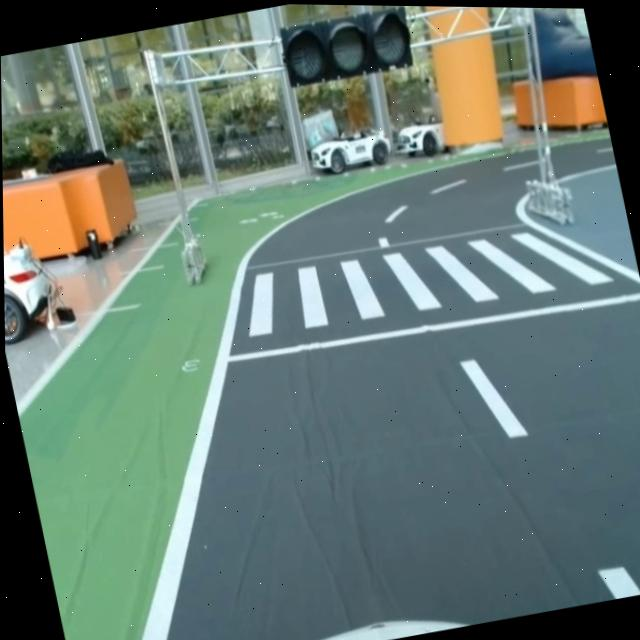traffic-light: (269, 4, 420, 95)
